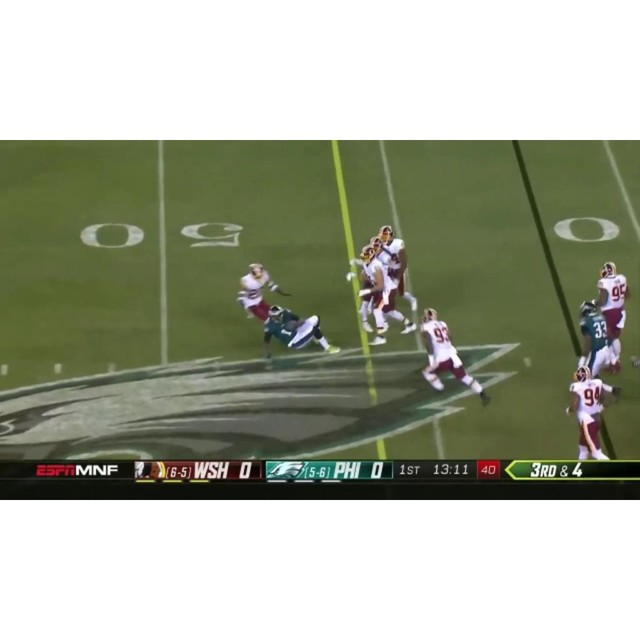american-football-player: (419, 308, 489, 405), (356, 243, 414, 339), (565, 364, 620, 462), (373, 226, 419, 316), (575, 300, 622, 384), (263, 304, 334, 359), (593, 261, 631, 361), (236, 262, 286, 325)
